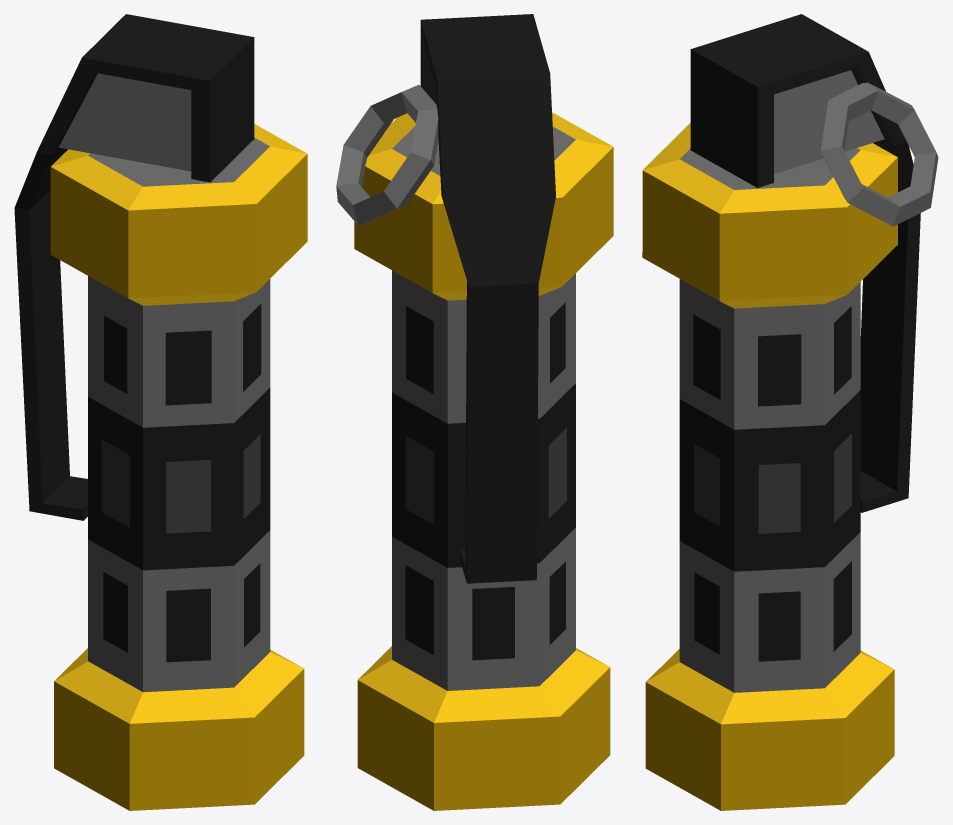
The model's file is Stun_Hand.glb.
3 renders of one model, left to right at view 1: azimuth 30°, elevation 25°; view 2: azimuth 150°, elevation 25°; view 3: azimuth 270°, elevation 25°, orthographic.
Visible parts, largest first — view 1: Stun; view 2: Stun; view 3: Stun.
Part boxes in pixels (x1,y1,x2,y2): Stun: [14, 14, 307, 810]; Stun: [336, 14, 613, 810]; Stun: [642, 14, 938, 810].
Bounding box in the file's own units: 0.0792 × 0.2579 × 0.0961.
1 material, 1 textured.
